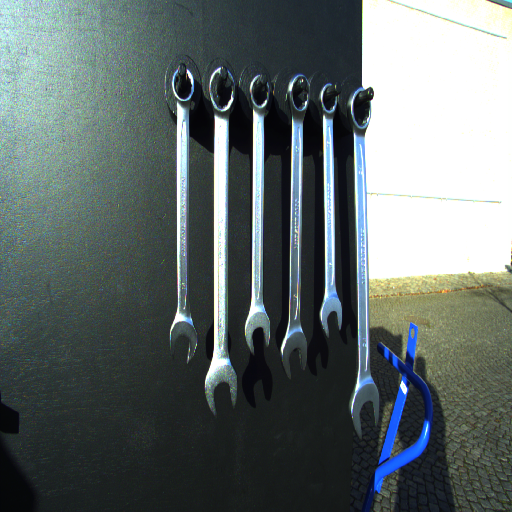bottom: (201, 361, 242, 417), (348, 379, 384, 439), (166, 317, 201, 367), (279, 331, 310, 381), (315, 296, 348, 340), (242, 313, 273, 357)
top: (344, 85, 378, 133), (207, 65, 237, 114), (284, 73, 312, 115), (314, 79, 342, 119), (247, 73, 273, 114), (169, 65, 196, 104)
